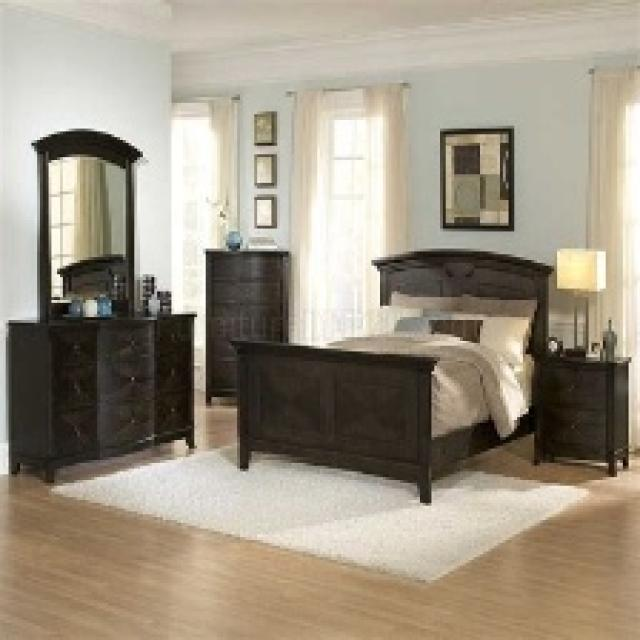Bed: (229, 246, 554, 503)
